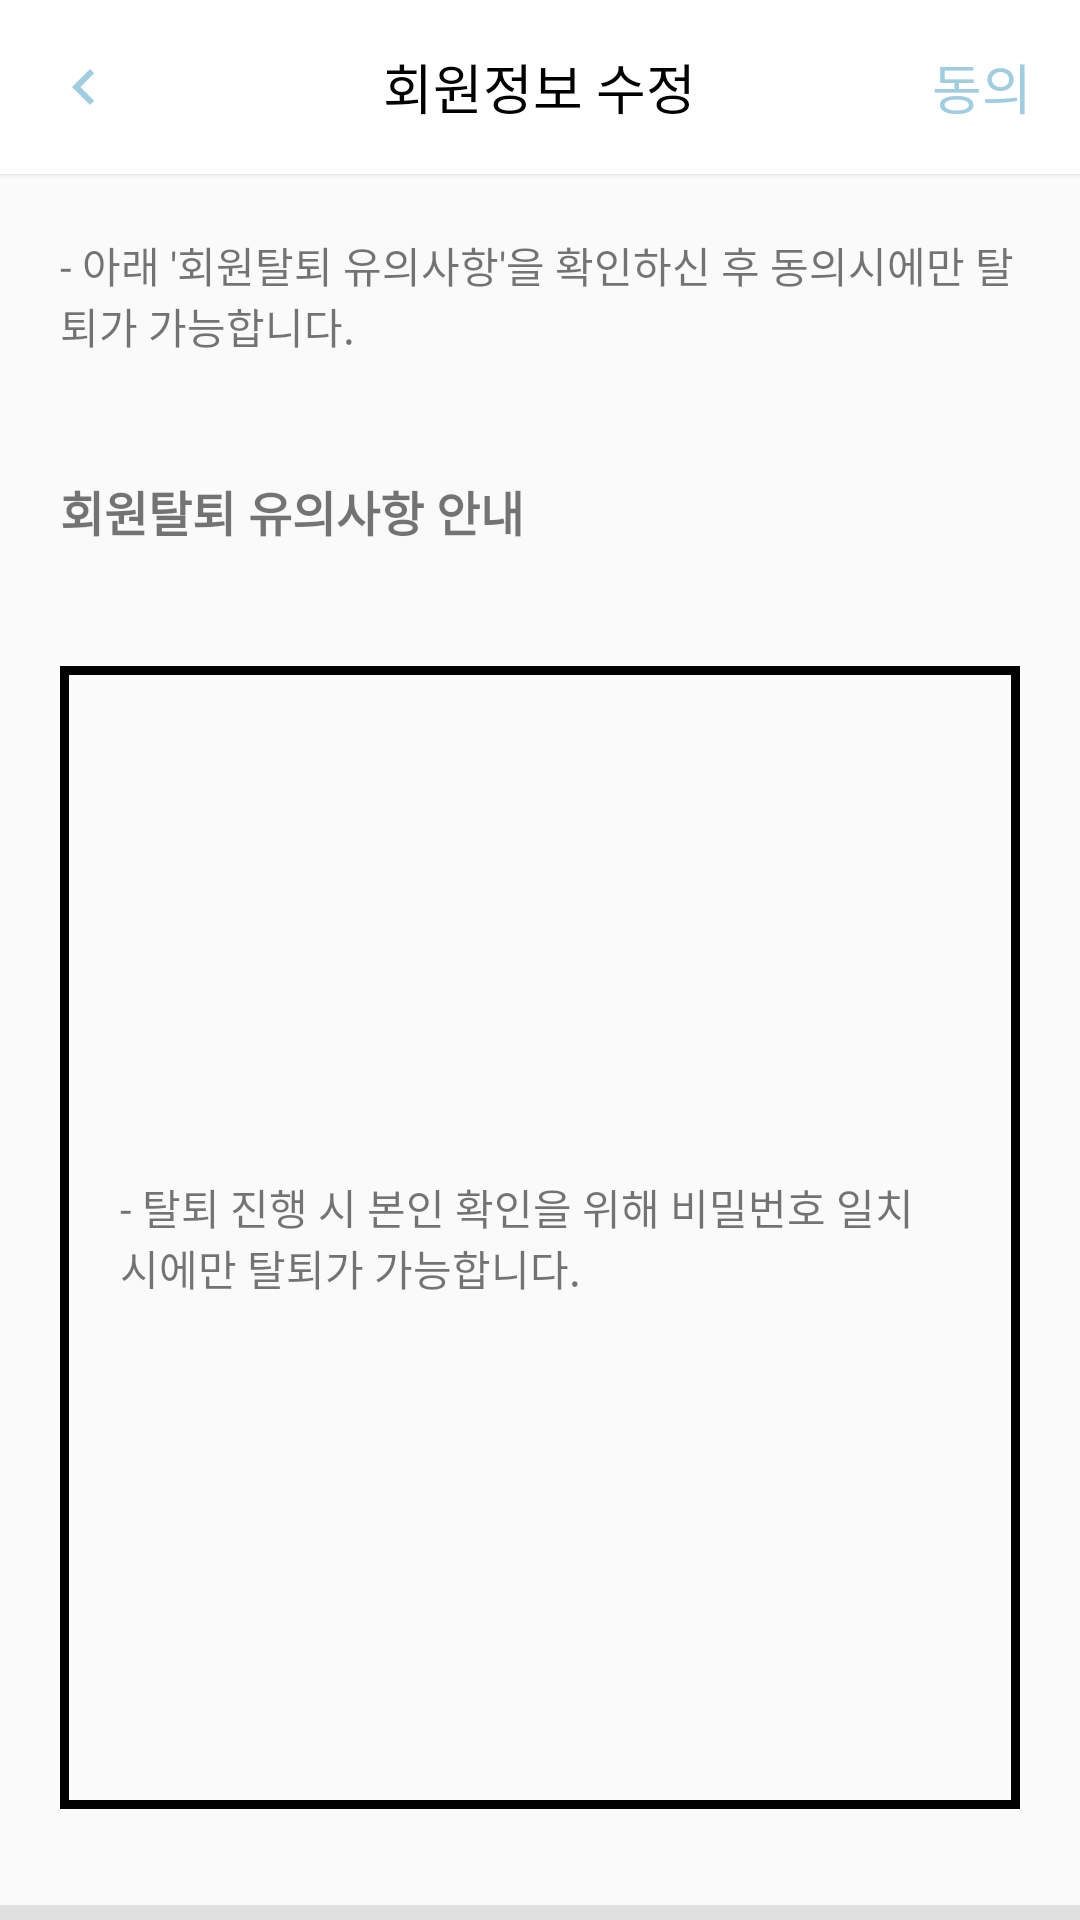

Point at icon controls on the screen. Image size 1080*1920, points as [x,y].
back: [83,87]
